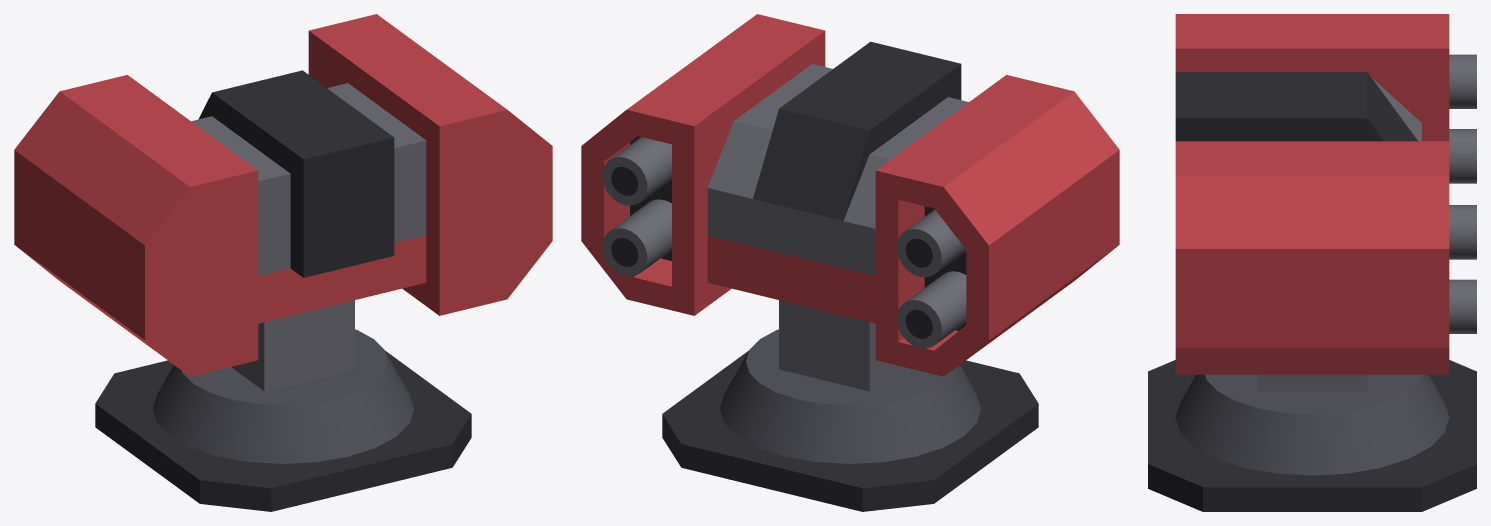
The model's file is turret_double.glb.
3 views of the same model, side by side, from view 1: azimuth 30°, elevation 25°; view 2: azimuth 150°, elevation 25°; view 3: azimuth 270°, elevation 25° (orthographic). The views are drawn at different scales.
Parts seen in each view (by area): view 1: head, body; view 2: head, body; view 3: head, body.
Part boxes in pixels (box(x1,y1,x2,y2)): head: box(14, 14, 552, 376); body: box(95, 300, 471, 511); head: box(581, 14, 1119, 376); body: box(662, 300, 1038, 511); head: box(1175, 14, 1476, 374); body: box(1148, 360, 1476, 511).
Size of the model in its own units: 0.9 by 0.7 by 0.6.
